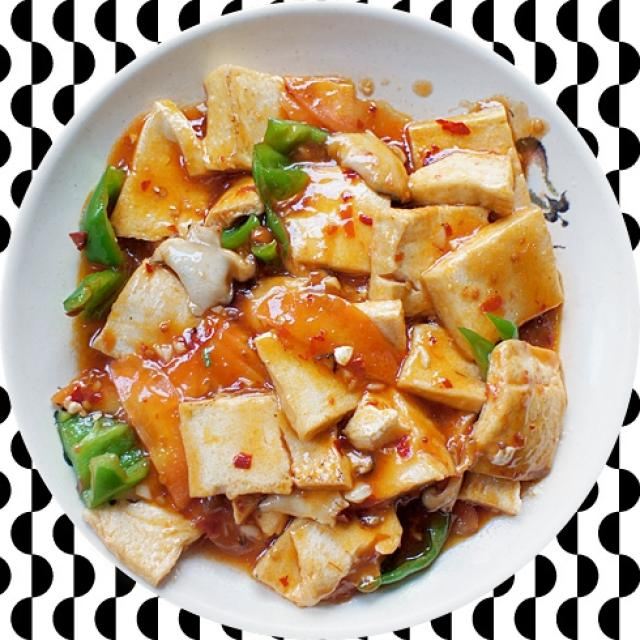豆腐料理: (24, 18, 615, 626)
